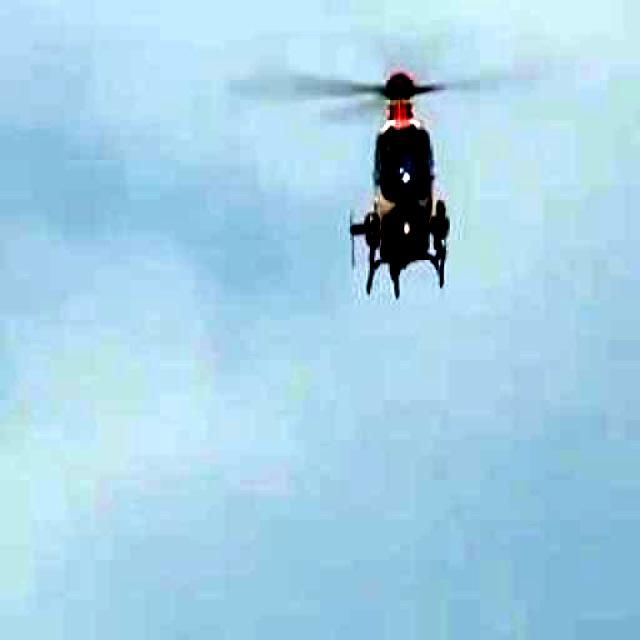drone: (280, 35, 544, 302)
